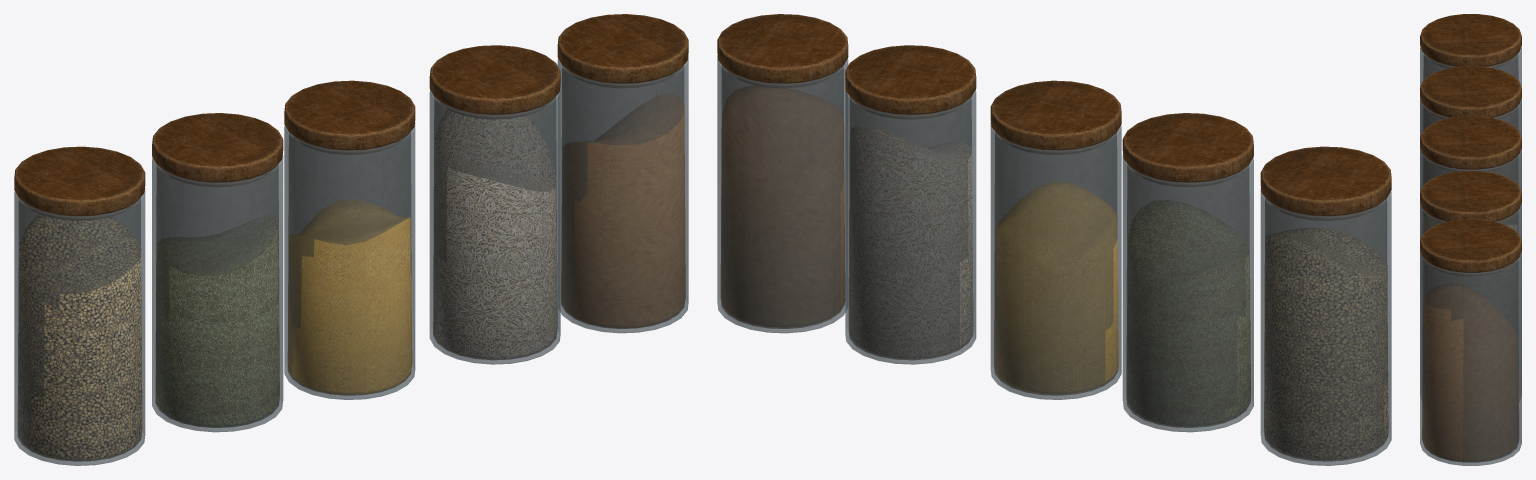
File: spice jars.fbx
3 renders of one model, left to right at view 1: azimuth 30°, elevation 25°; view 2: azimuth 150°, elevation 25°; view 3: azimuth 270°, elevation 25°, orthographic. The views are drawn at different scales.
Parts seen in each view (by area): view 1: spice_jar_4, spice_jar_3, spice_jar_1, spice_jar_2, spice_jar_5; view 2: spice_jar_4, spice_jar_3, spice_jar_1, spice_jar_2, spice_jar_5; view 3: spice_jar_5, spice_jar_3, spice_jar_4, spice_jar_1, spice_jar_2.
Part boxes in pixels (x1,y1,x2,y2): spice_jar_4: (429, 45, 560, 364); spice_jar_3: (284, 80, 415, 399); spice_jar_1: (14, 146, 145, 465); spice_jar_2: (152, 113, 283, 432); spice_jar_5: (557, 14, 688, 333); spice_jar_4: (845, 45, 976, 364); spice_jar_3: (990, 80, 1121, 399); spice_jar_1: (1260, 146, 1391, 465); spice_jar_2: (1122, 113, 1253, 432); spice_jar_5: (717, 14, 848, 333); spice_jar_5: (1420, 219, 1521, 465); spice_jar_3: (1420, 116, 1521, 238); spice_jar_4: (1420, 171, 1521, 401); spice_jar_1: (1420, 14, 1521, 135); spice_jar_2: (1420, 66, 1521, 190).
Size of the model in its own units: 253 by 97.79 by 43.98.
